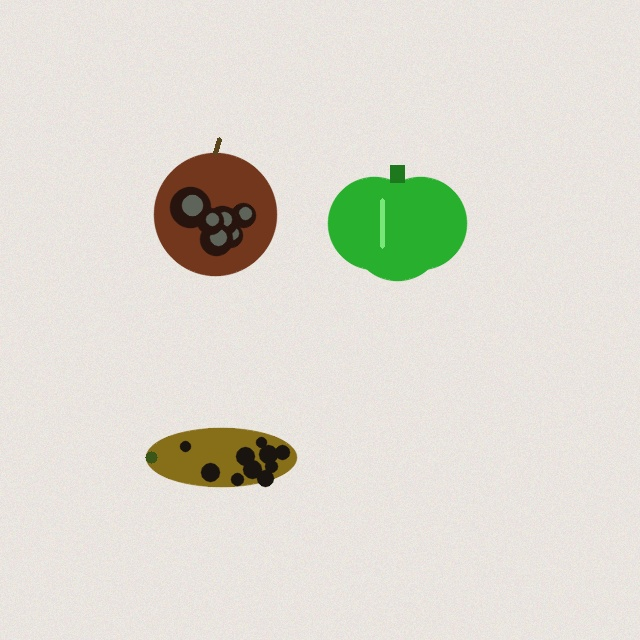Fresh bell pepper: (328, 165, 466, 280)
Rotten apple: (154, 139, 276, 275)
Rotten banana: (143, 421, 299, 493)
